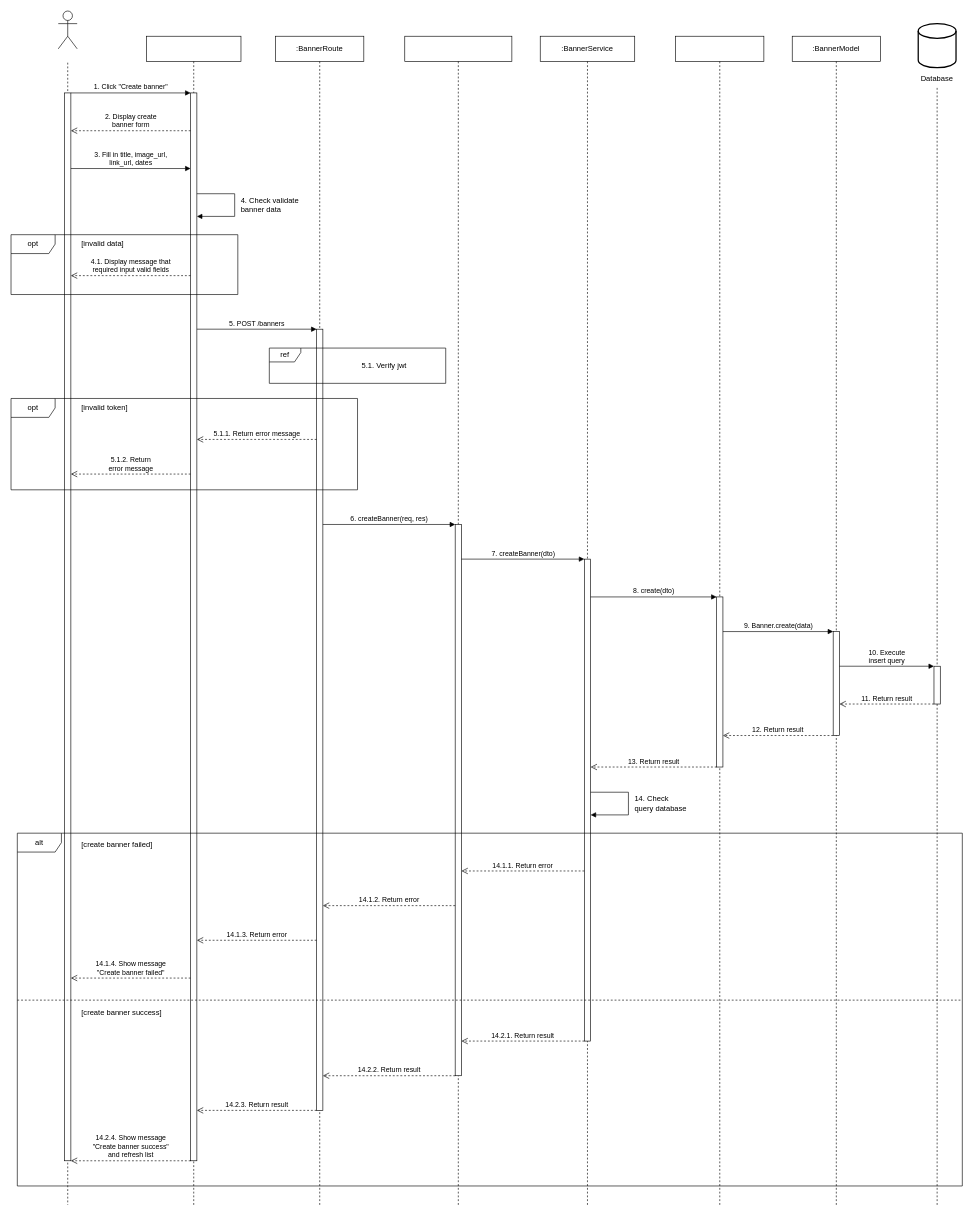
The diagram is 974 pixels wide and 1217 high, and some of its shapes have lost their labels. The shapes that lost their labels are listed below. From the top down, each one's box as (x1, y1, x2, y2) in pixels, then its label:
(58, 10, 77, 49): Admin
(146, 36, 241, 1205): :BannerView
(404, 36, 512, 1205): :BannerController
(675, 36, 764, 1205): :BannerRepo
